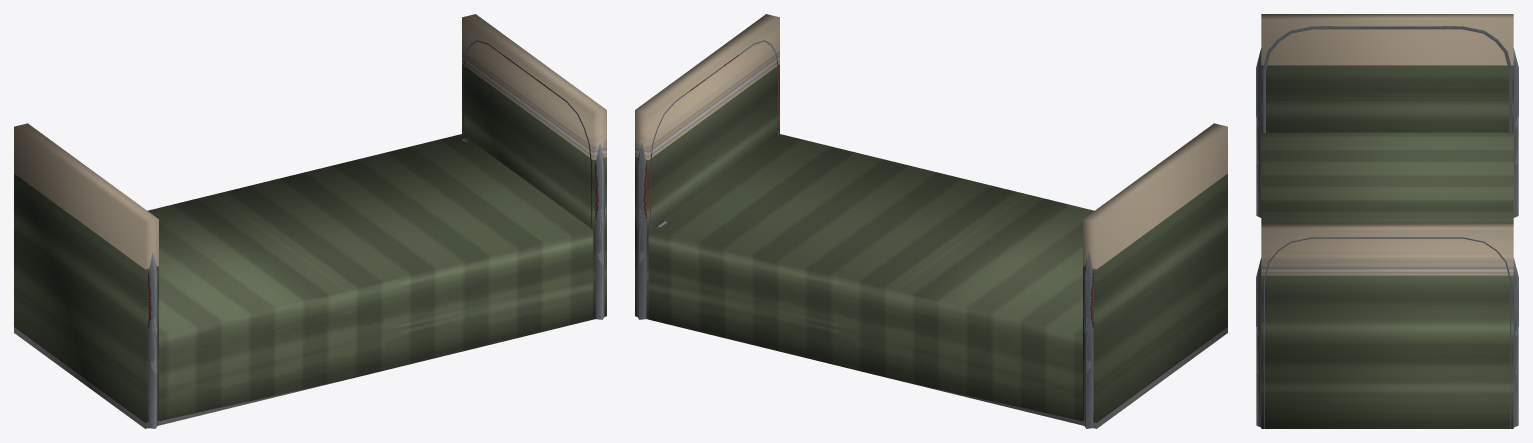
The model's file is bed03_F.fbx.
3 views of the same model, side by side, from view 1: azimuth 30°, elevation 25°; view 2: azimuth 150°, elevation 25°; view 3: azimuth 270°, elevation 25° (orthographic). The views are drawn at different scales.
Parts seen in each view (by area): view 1: bed03_F_COL, bed03_F; view 2: bed03_F_COL, bed03_F; view 3: bed03_F_COL, bed03_F.
Part boxes in pixels (x1,y1,x2,y2): bed03_F_COL: (14, 14, 606, 428); bed03_F: (148, 40, 604, 428); bed03_F_COL: (635, 14, 1227, 428); bed03_F: (637, 40, 1093, 428); bed03_F_COL: (1261, 14, 1513, 428); bed03_F: (1256, 26, 1518, 428).
Size of the model in its own units: 216 by 91.99 by 111.
